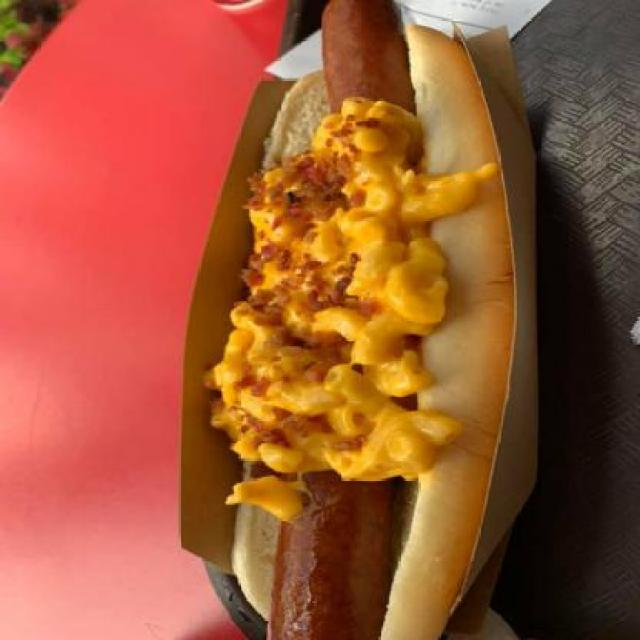macaroni and cheese: (216, 100, 481, 498)
